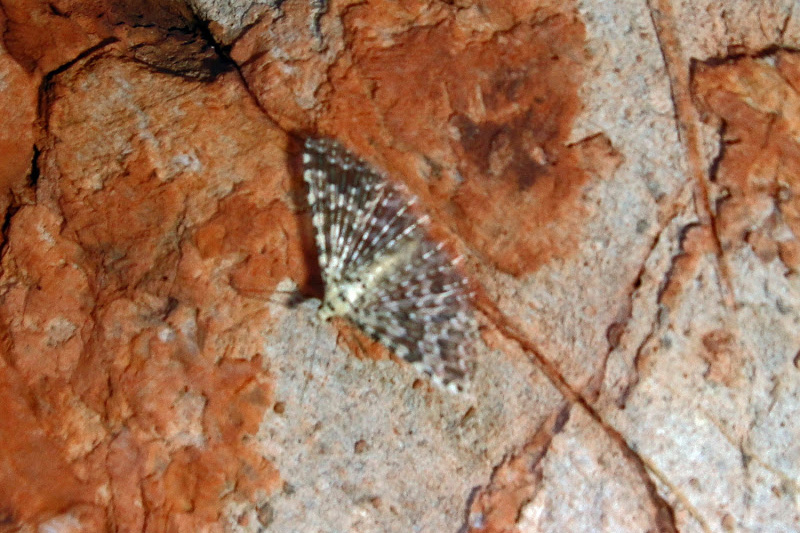Alucitidae: (241, 117, 486, 405)
moth: (243, 119, 488, 407)
